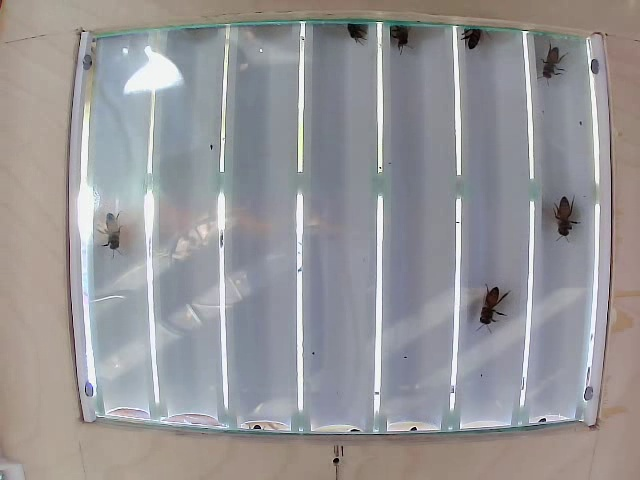bee: (97, 212, 149, 258), (536, 36, 569, 84), (482, 286, 509, 340), (556, 190, 579, 246), (463, 23, 486, 57), (386, 28, 413, 56), (346, 25, 372, 53)
